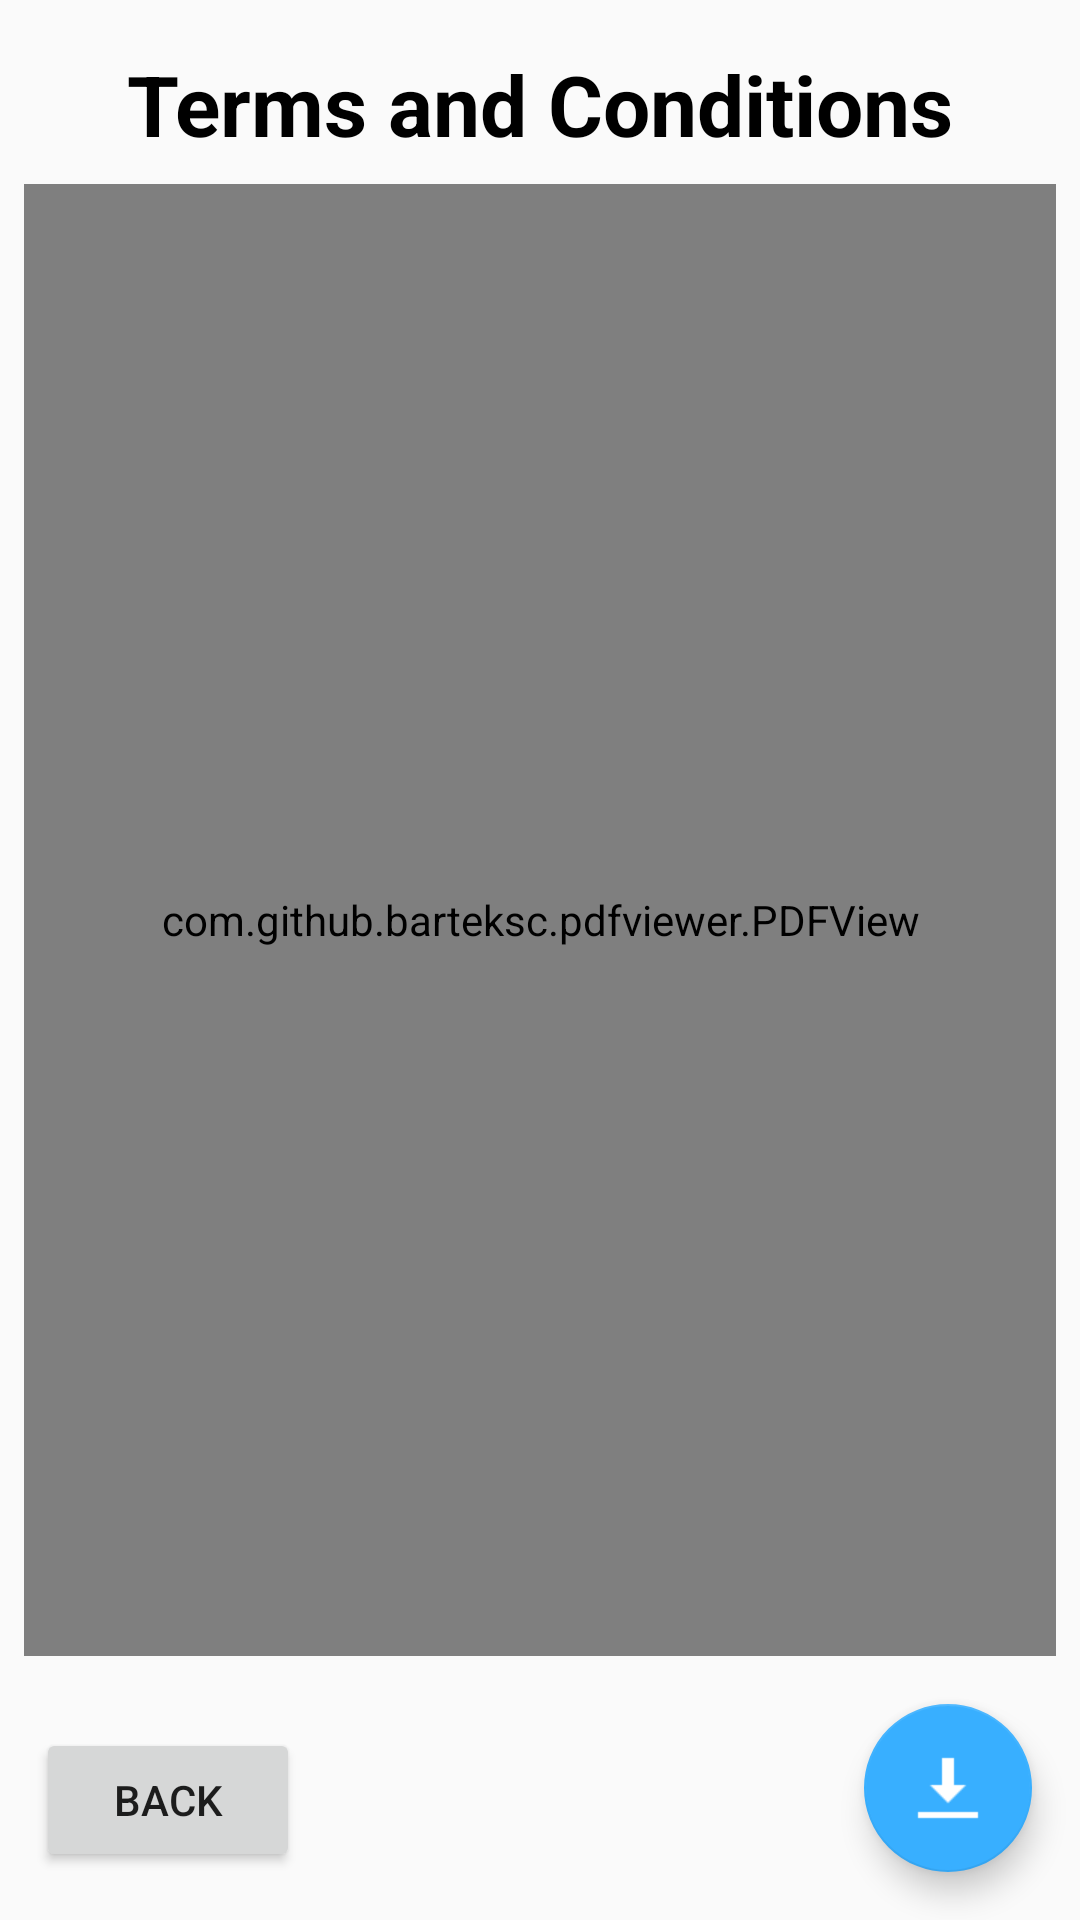

Icon click points for this 1080px x 1920px phone screenshot, format (x,y):
download: (948,1788)
